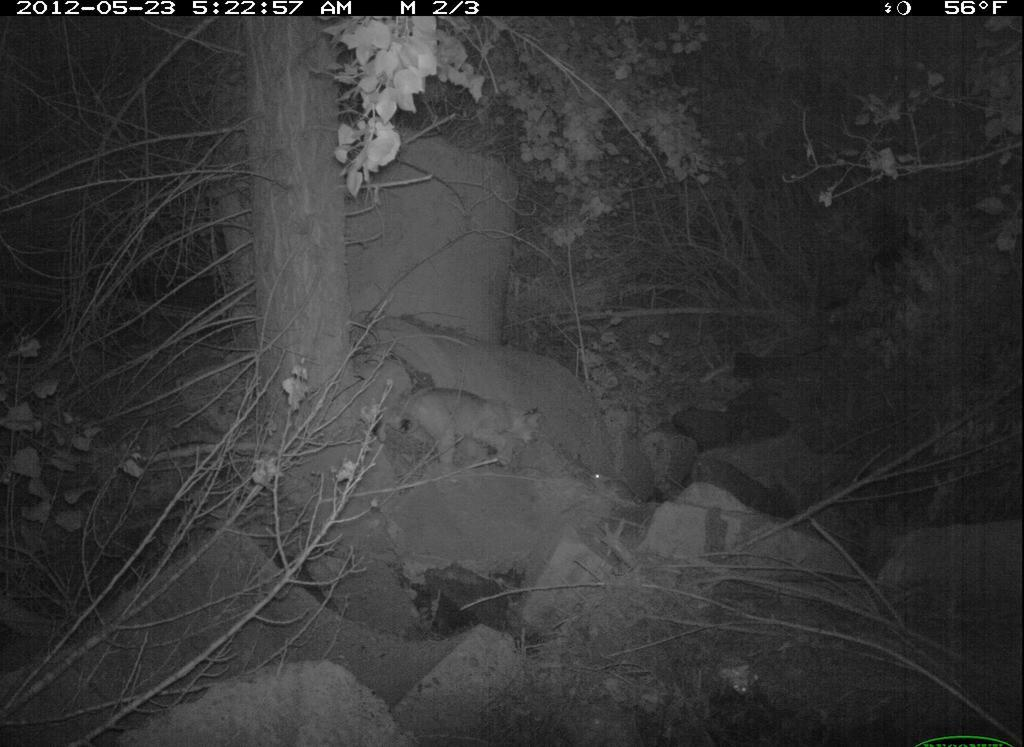rodent: (585, 468, 642, 505)
